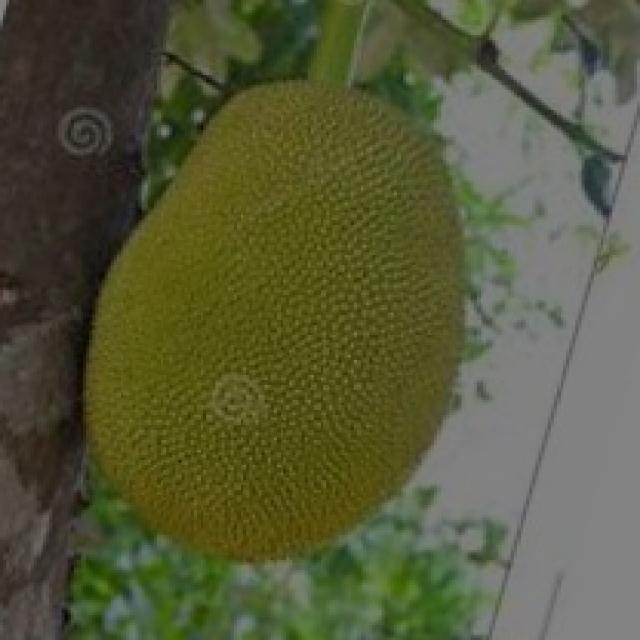Fruit: (92, 58, 508, 418)
